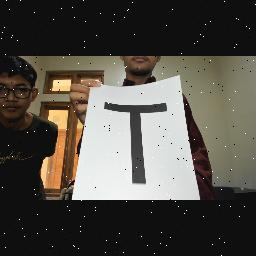t: (99, 96, 179, 188)
